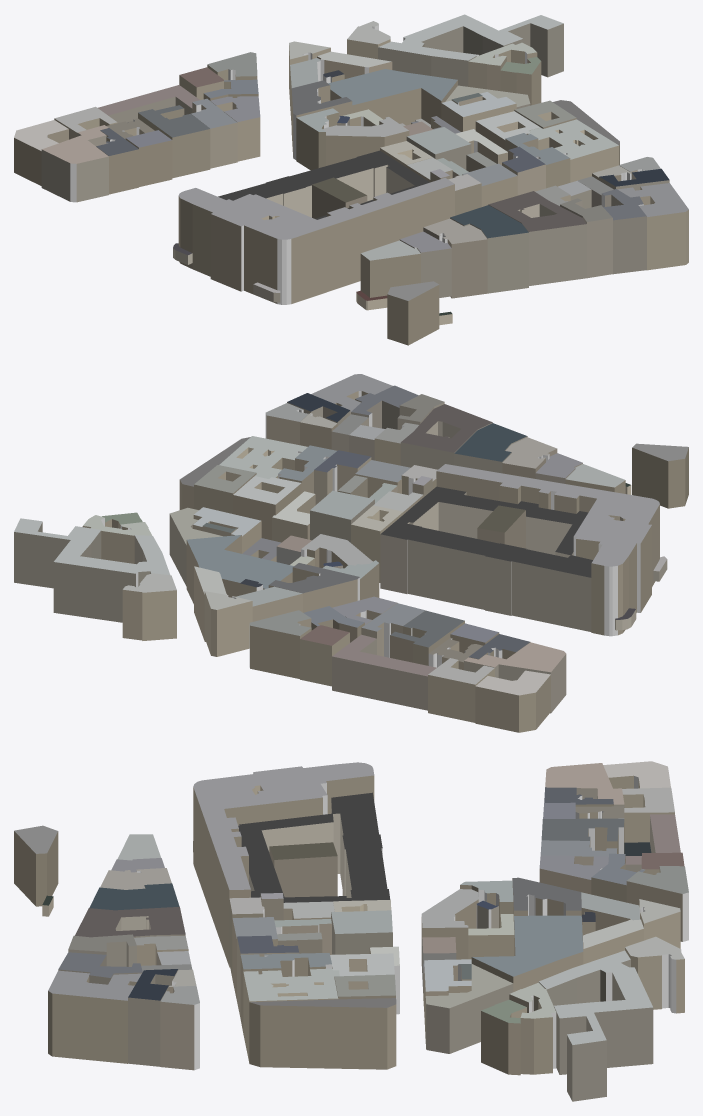
3 renders of one model, top to bottom at view 1: azimuth 30°, elevation 25°; view 2: azimuth 150°, elevation 25°; view 3: azimuth 270°, elevation 25°, orthographic. The views are drawn at different scales.
Visible parts, largest first — view 1: tuile; view 2: tuile; view 3: tuile.
Boxes of the visible parts, x1,y1,x2,y2 form: tuile: (14,14,688,345); tuile: (14,374,688,732); tuile: (14,761,688,1101).
Size of the model in its own units: 280 by 33.78 by 267.
